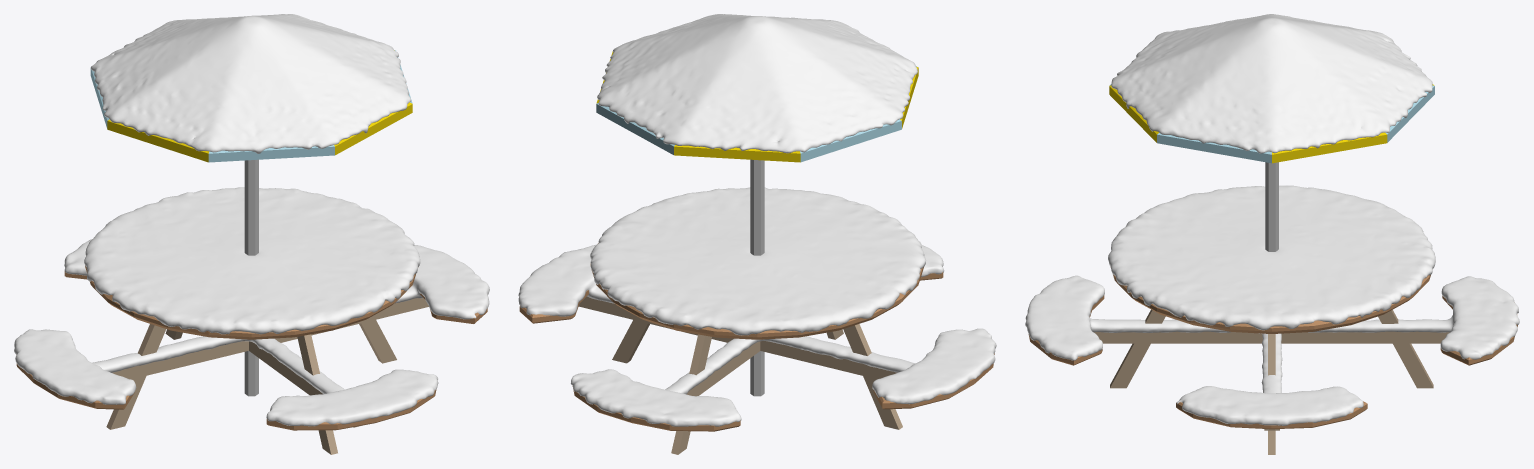
The model's file is Circle Bench SNOW.fbx.
3 renders of one model, left to right at view 1: azimuth 30°, elevation 25°; view 2: azimuth 150°, elevation 25°; view 3: azimuth 270°, elevation 25°, orthographic. The views are drawn at different scales.
Parts seen in each view (by area): view 1: SnowBall.001, Umbrella.002; view 2: SnowBall.001, Umbrella.002; view 3: SnowBall.001, Umbrella.002.
Part boxes in pixels (left/top/right/bottom): SnowBall.001: left=14, top=14, right=489, bottom=426; Umbrella.002: left=16, top=50, right=487, bottom=454; SnowBall.001: left=518, top=14, right=996, bottom=426; Umbrella.002: left=519, top=51, right=994, bottom=454; SnowBall.001: left=1025, top=14, right=1519, bottom=425; Umbrella.002: left=1028, top=84, right=1517, bottom=454.
Size of the model in its own units: 304 by 247 by 304.
